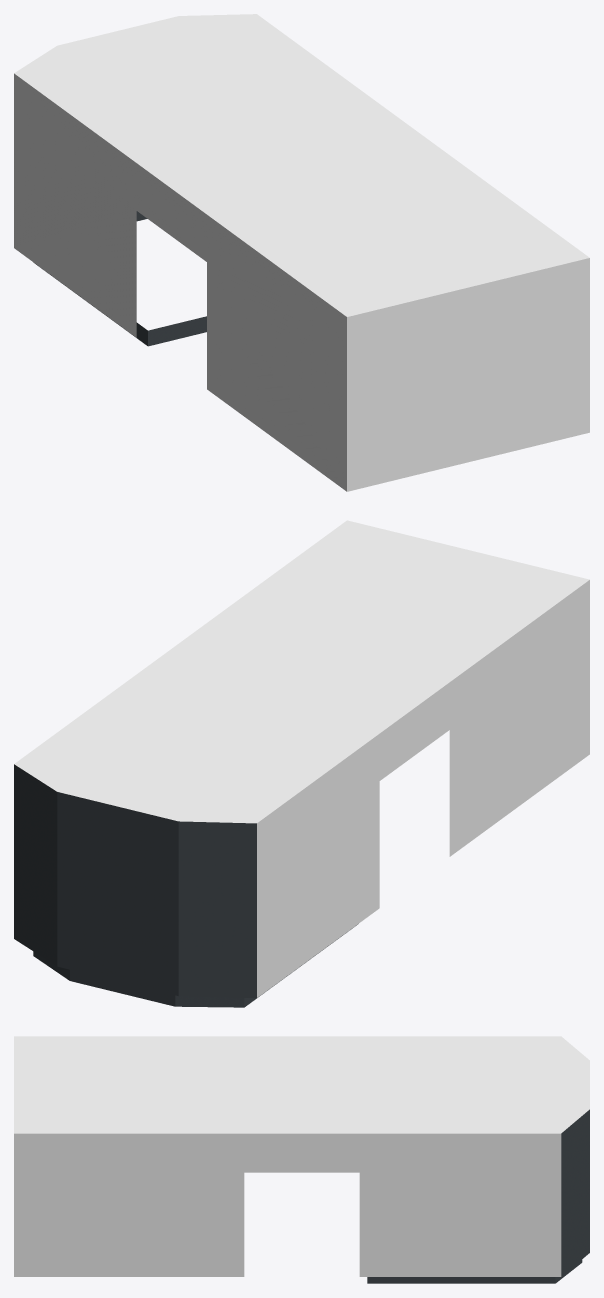
File: Lift_Walls_01_Level_04.fbx
3 renders of one model, top to bottom at view 1: azimuth 30°, elevation 25°; view 2: azimuth 150°, elevation 25°; view 3: azimuth 270°, elevation 25°, orthographic. The views are drawn at different scales.
Parts seen in each view (by area): view 1: Lift_Walls_01_Level_04; view 2: Lift_Walls_01_Level_04; view 3: Lift_Walls_01_Level_04.
Boxes of the visible parts, x1,y1,x2,y2 form: Lift_Walls_01_Level_04: (14, 14, 589, 491); Lift_Walls_01_Level_04: (14, 520, 589, 1007); Lift_Walls_01_Level_04: (14, 1036, 589, 1283).
Size of the model in its own units: 1600 by 1200 by 4000.
